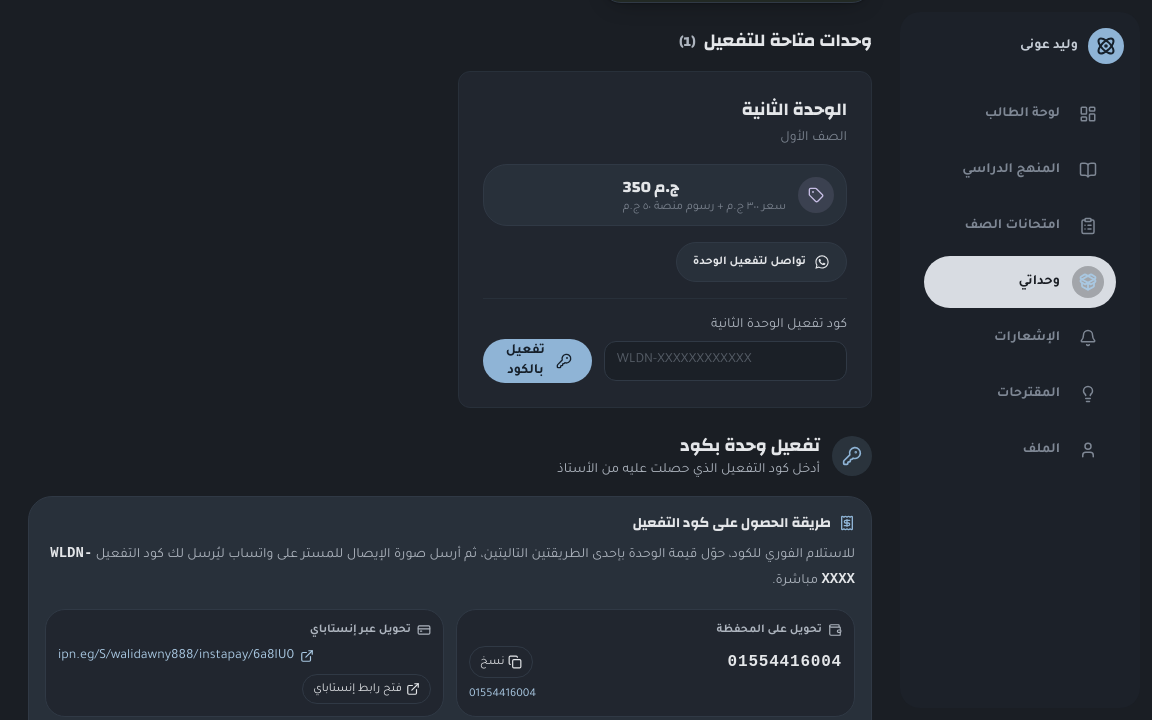
UnitsPage › redeems a code directly from a locked unit card
(page scrolled)
Type "WLDN-ABCD-EFGH-JKLM" into the field labelled "كود تفعيل الوحدة الثانية" at (725, 360), box [604,340,847,380]
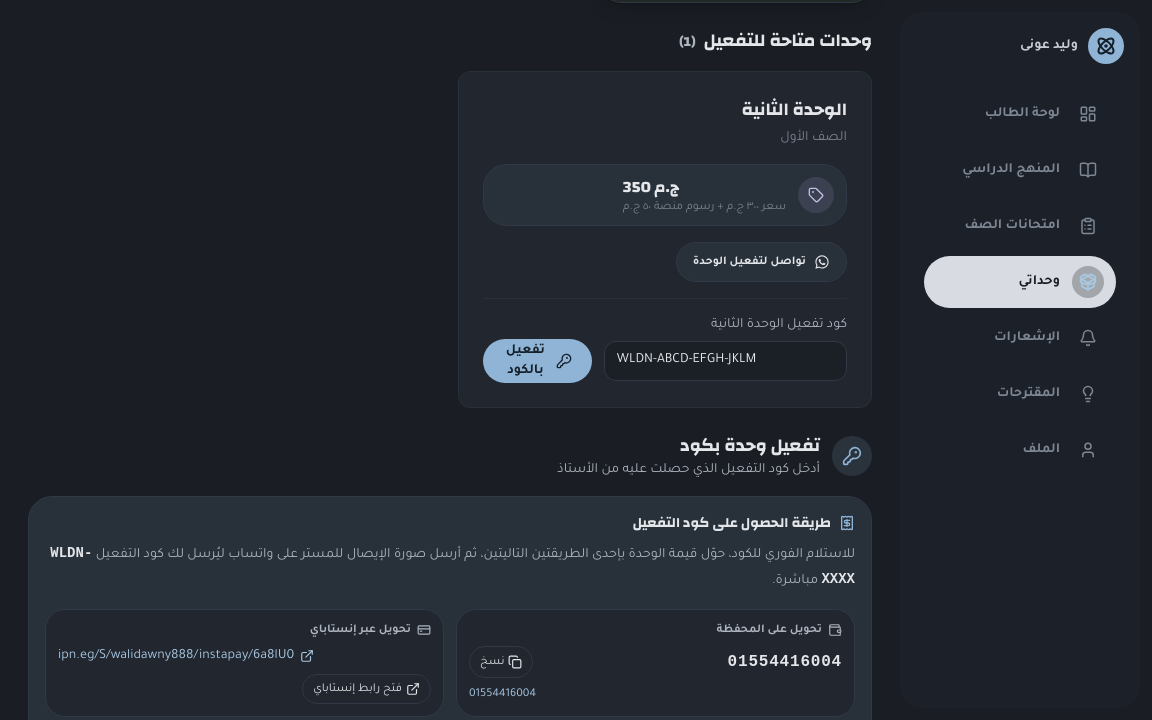
Click the button "تفعيل بالكود" at (537, 360), box [483,338,592,382]
(page scrolled)
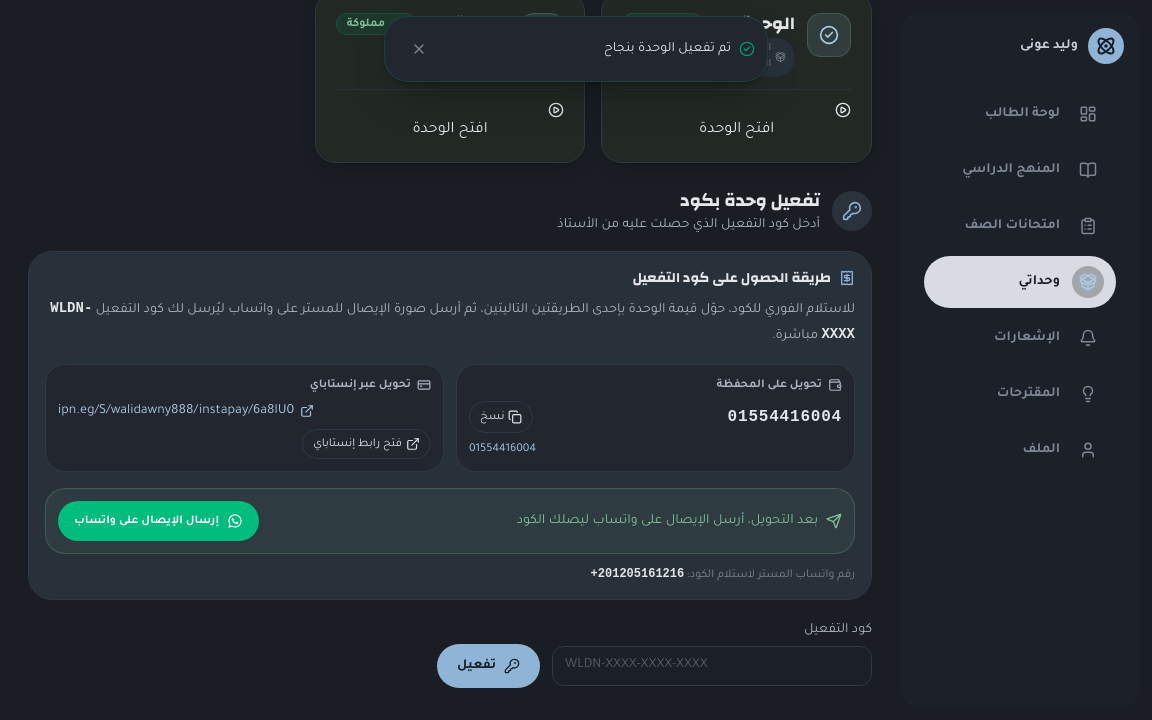
expect the text "تم تفعيل الوحدة بنجاح" is shown: met, box [604,42,731,56]
expect the button "افتح الوحدة" below "الوحدة الثانية" is shown: met, box [336,102,564,142]
